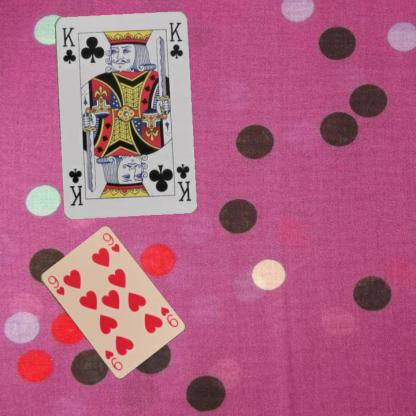9h: (158, 304, 180, 329), (44, 273, 66, 297)
Kc: (173, 161, 192, 202), (59, 24, 77, 65)
